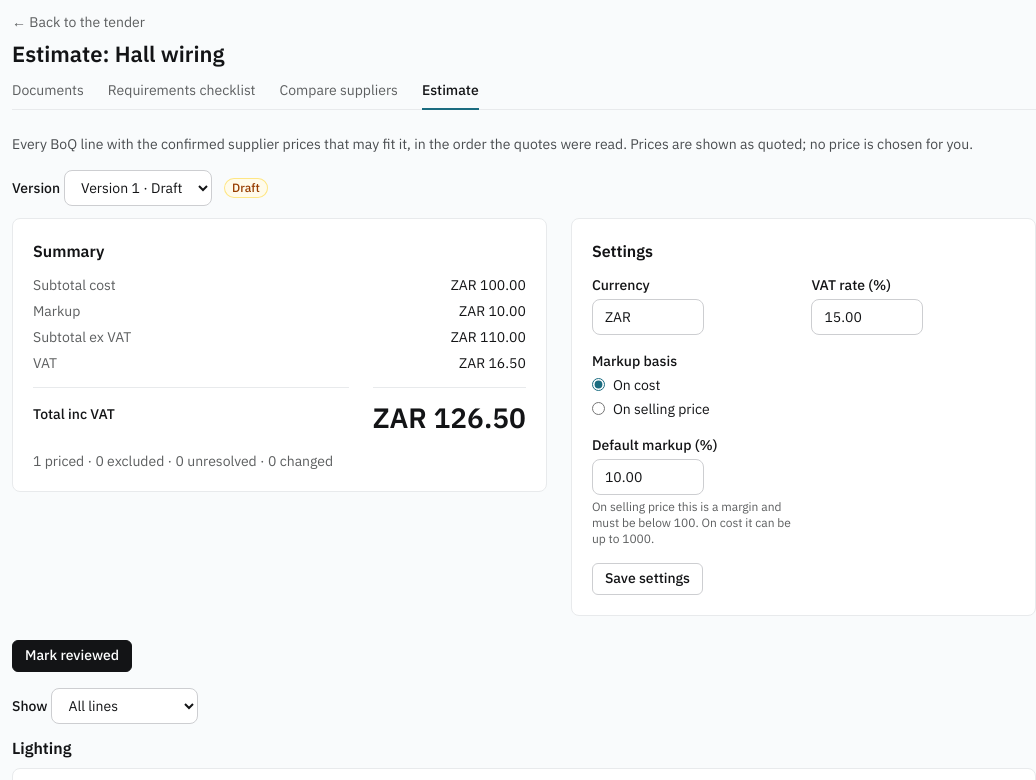
Test: status actions › lists the blockers in plain words when marking reviewed is refused
The image size is (1036, 780).
Click the button "Mark reviewed": click(72, 656) [12, 640, 132, 672]
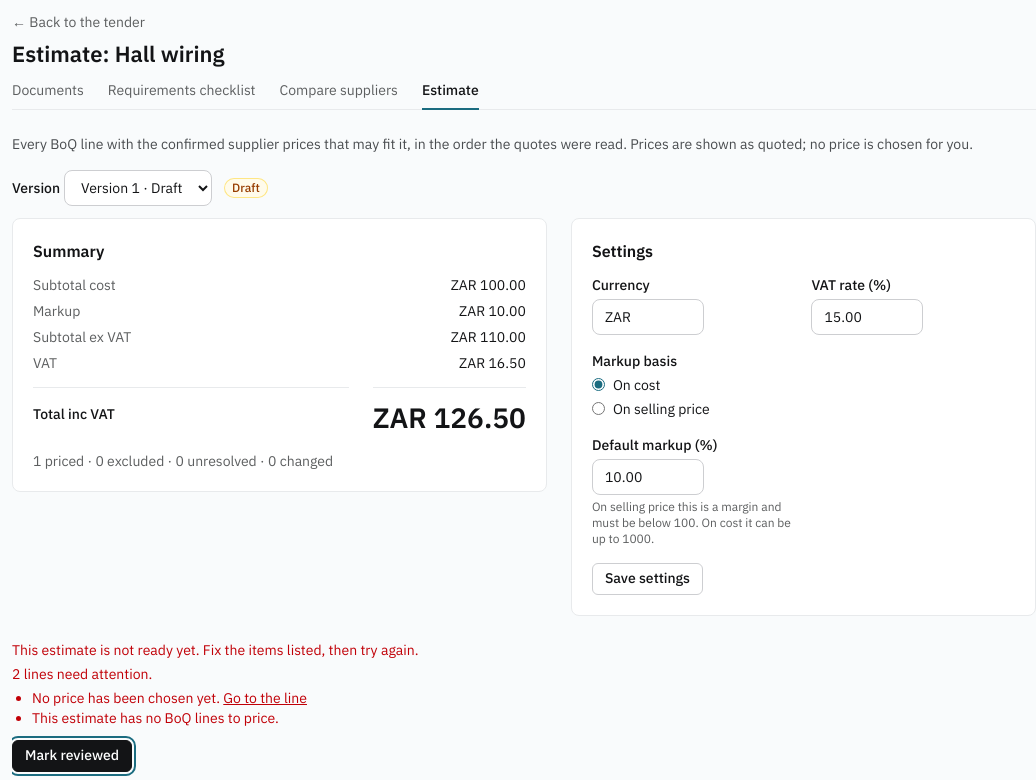
Check: the list item "No price has been chosen yet. Go to the line" is shown, box [32, 688, 307, 706]
Check: the list item "This estimate has no BoQ lines to price." is shown, box [32, 708, 279, 726]
